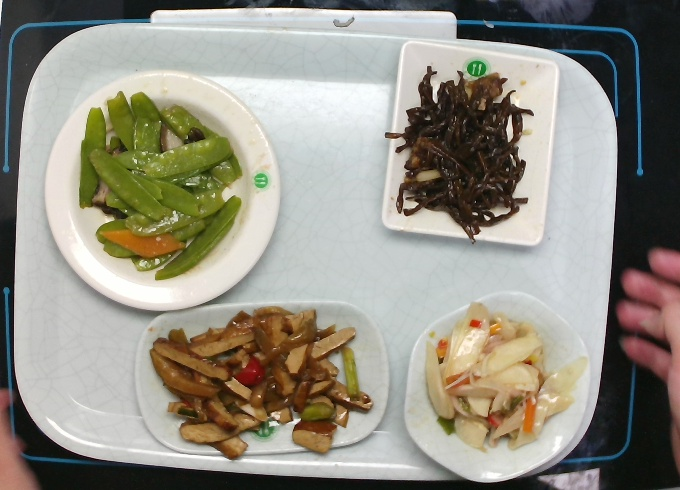WCQzf-Bai_Se_Si_Fang_Die: (378, 38, 564, 251)
WCQzf-Hua_Duo_Wan: (397, 284, 595, 485)
WCQzf-Kuan_Bian_Yuan_Die: (40, 67, 284, 315)
WCQzf-Tuo_Yuan_Pan: (129, 296, 394, 459)
